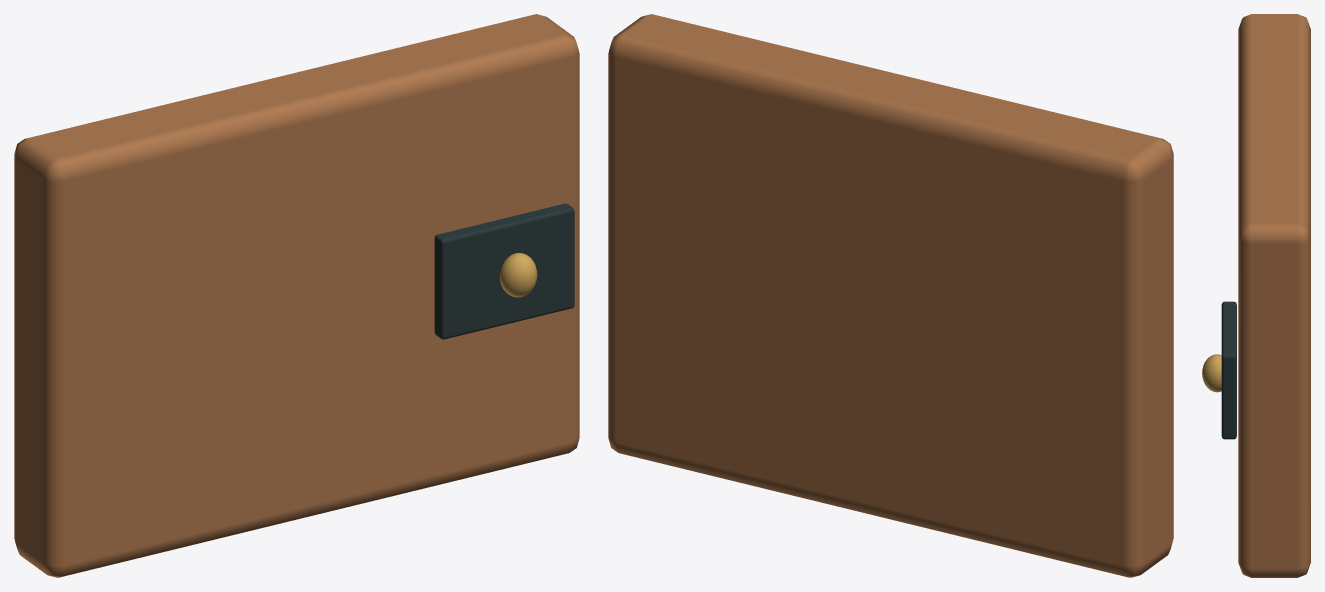
Rendered from wp-portefeuille.glb.
3 views of the same model, side by side, from view 1: azimuth 30°, elevation 25°; view 2: azimuth 150°, elevation 25°; view 3: azimuth 270°, elevation 25° (orthographic). The views are drawn at different scales.
Parts seen in each view (by area): view 1: wp-portefeuille; view 2: wp-portefeuille; view 3: wp-portefeuille.
Part boxes in pixels (<box>): wp-portefeuille: <box>14,14,579,577</box>; wp-portefeuille: <box>608,14,1173,577</box>; wp-portefeuille: <box>1202,14,1310,577</box>.
Bounding box in the file's own units: 0.12 × 0.09 × 0.025.
